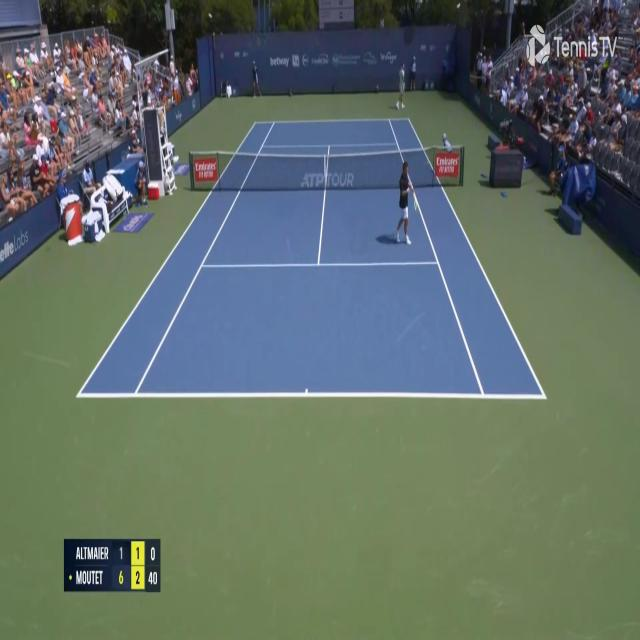tennis-player: (394, 152, 418, 249), (396, 57, 408, 111)
